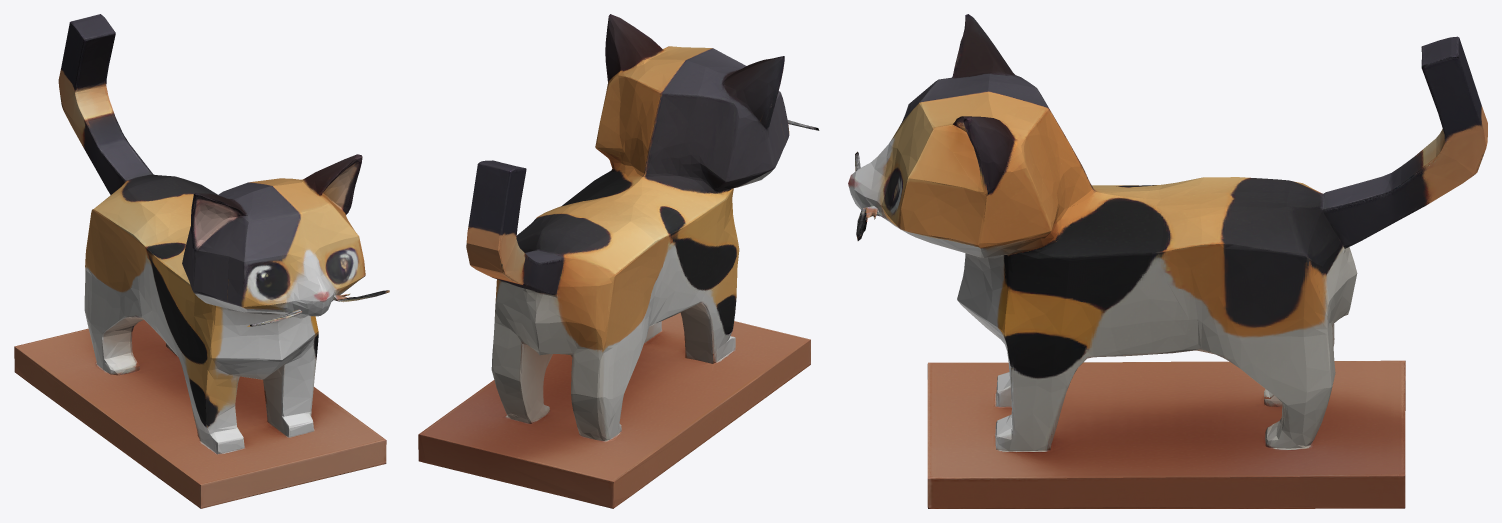
File: model-pick-3.glb
3 views of the same model, side by side, from view 1: azimuth 30°, elevation 25°; view 2: azimuth 150°, elevation 25°; view 3: azimuth 270°, elevation 25° (orthographic). The views are drawn at different scales.
Parts seen in each view (by area): view 1: geometry_0; view 2: geometry_0; view 3: geometry_0.
Boxes of the visible parts, bbox=[...] form: geometry_0: bbox=[14, 14, 389, 508]; geometry_0: bbox=[418, 14, 819, 508]; geometry_0: bbox=[848, 14, 1487, 508].
Size of the model in its own units: 0.2764 by 0.4516 by 0.6459.
1 material, 1 textured.
